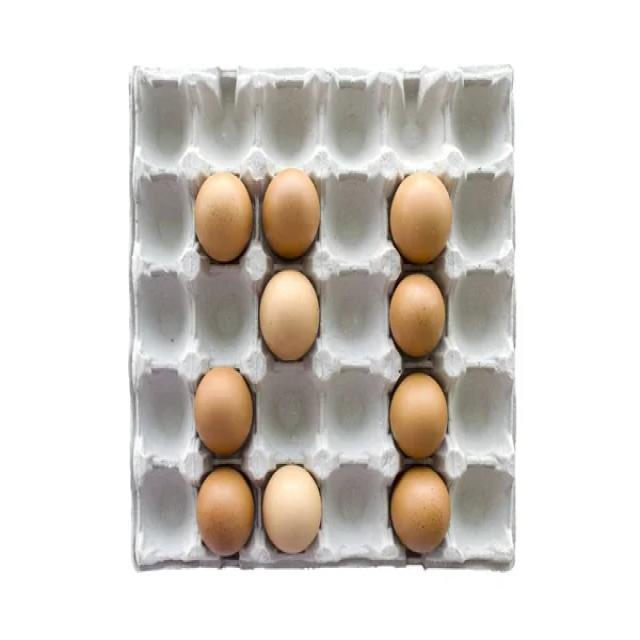eggs: (388, 170, 454, 265), (258, 268, 320, 360), (389, 466, 452, 555), (194, 366, 254, 456), (262, 464, 322, 554), (388, 372, 448, 461), (194, 172, 253, 262), (196, 466, 255, 556), (262, 168, 320, 259), (390, 272, 445, 358)
